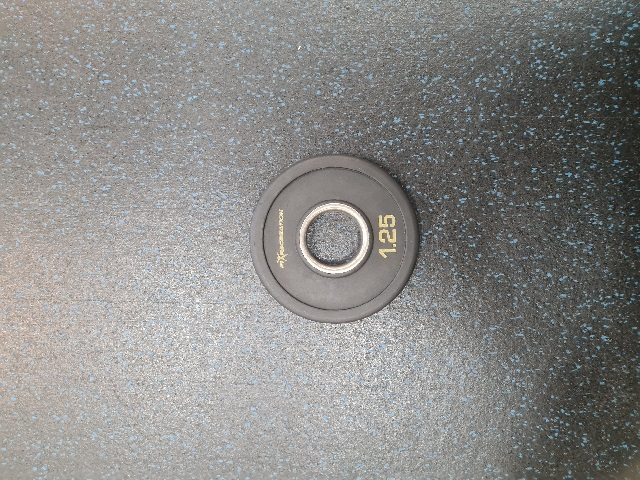weights: (244, 150, 420, 330)
